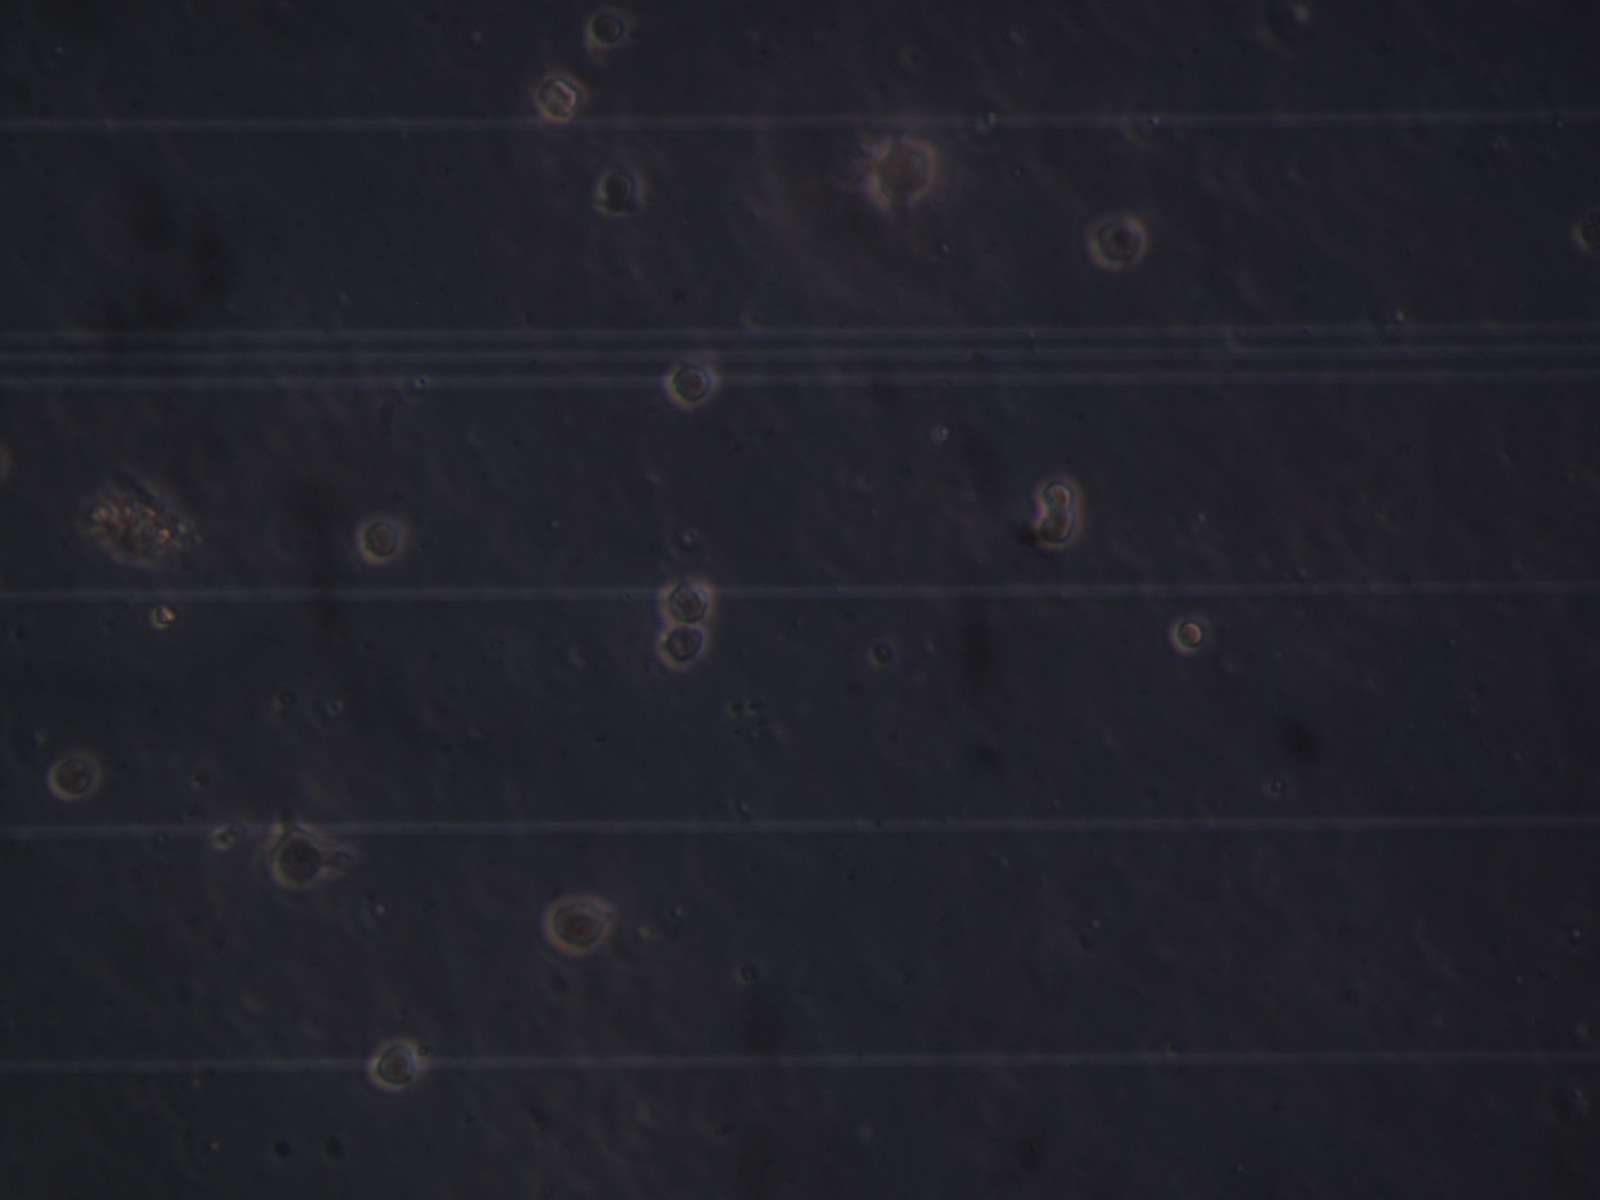hemo: (866, 134, 939, 211), (266, 821, 330, 890), (543, 896, 610, 958), (1087, 214, 1146, 274), (48, 747, 105, 800), (355, 511, 407, 568), (663, 361, 721, 411), (658, 624, 712, 673), (368, 1040, 418, 1092), (593, 166, 643, 218), (661, 577, 716, 624), (534, 73, 583, 124), (1031, 471, 1083, 511), (1034, 507, 1082, 550), (585, 5, 631, 48), (1169, 613, 1211, 655)
